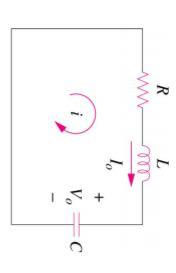inductor: (133, 134, 155, 188)
